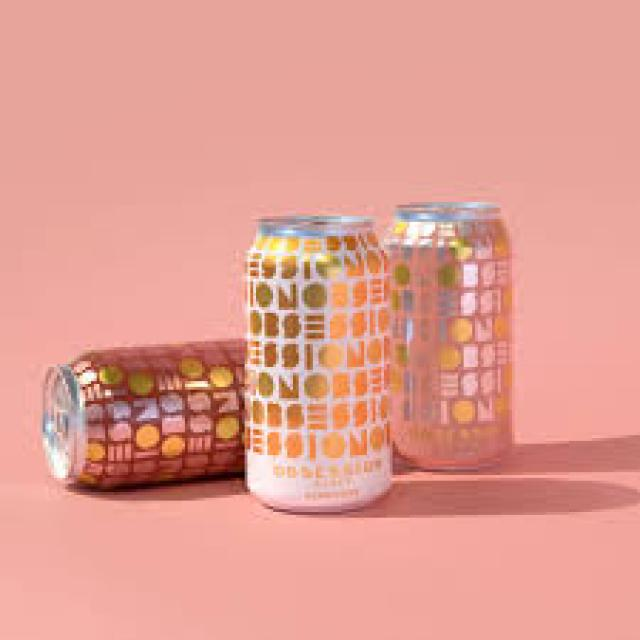Cans: (233, 208, 401, 514), (381, 196, 526, 472), (37, 333, 253, 492)
